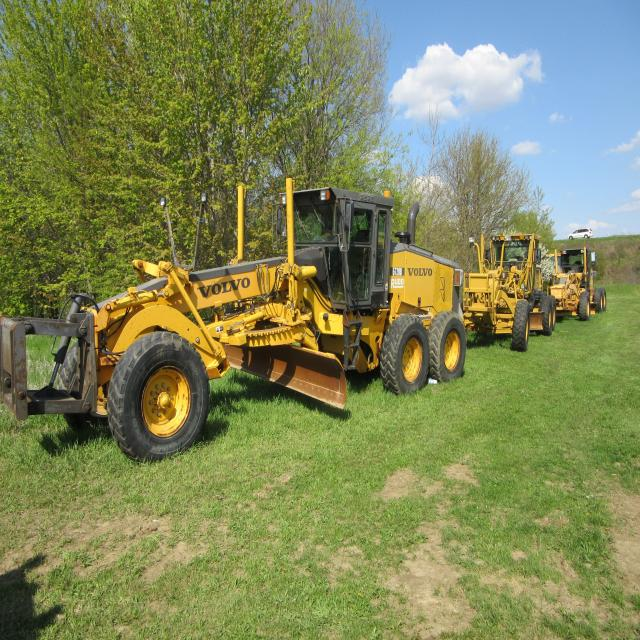Grader: (12, 182, 464, 452), (463, 208, 562, 357), (558, 245, 612, 322)
